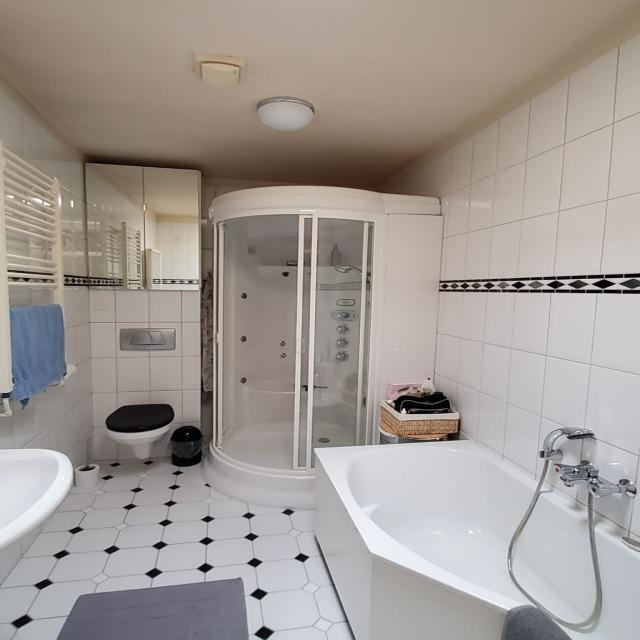bath: (313, 439, 640, 640)
designradiator: (0, 144, 77, 420)
douche: (203, 184, 443, 512)
toilet: (104, 328, 177, 460)
wastafel: (0, 448, 74, 554)
